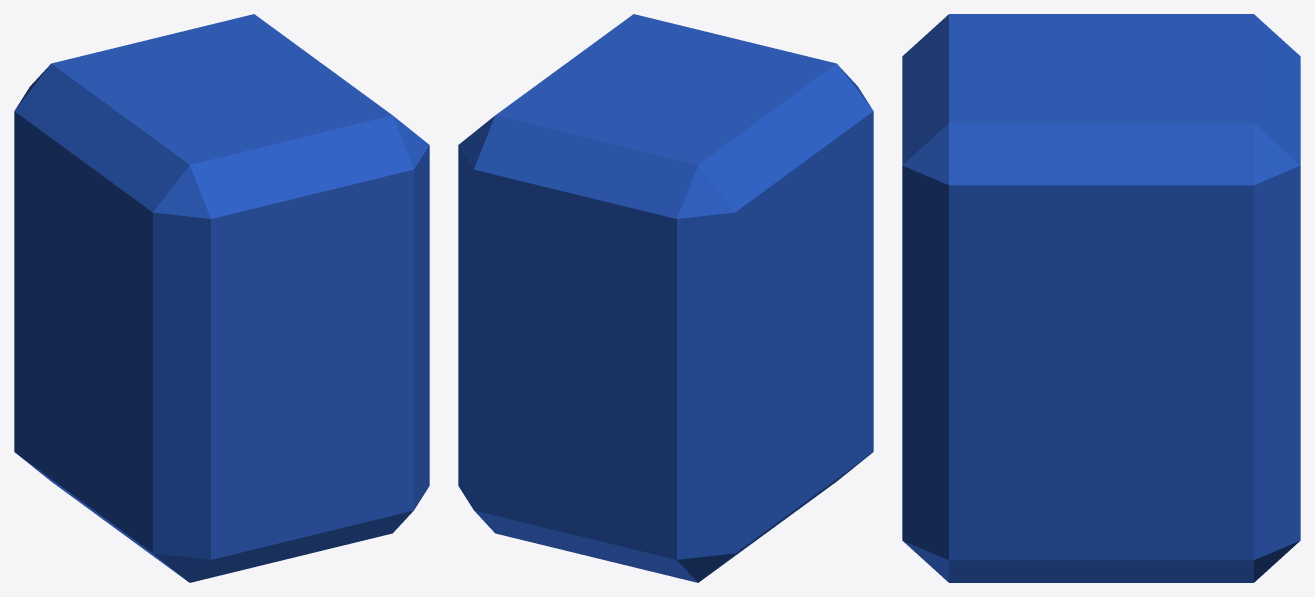
File: skater_thigh.glb
3 renders of one model, left to right at view 1: azimuth 30°, elevation 25°; view 2: azimuth 150°, elevation 25°; view 3: azimuth 270°, elevation 25°, orthographic. The views are drawn at different scales.
Visible parts, largest first — view 1: ThighS; view 2: ThighS; view 3: ThighS.
Boxes of the visible parts, x1,y1,x2,y2 form: ThighS: (14, 14, 429, 582); ThighS: (458, 14, 873, 582); ThighS: (902, 14, 1300, 582).
Bounding box in the file's own units: 0.15 × 0.2165 × 0.17.
